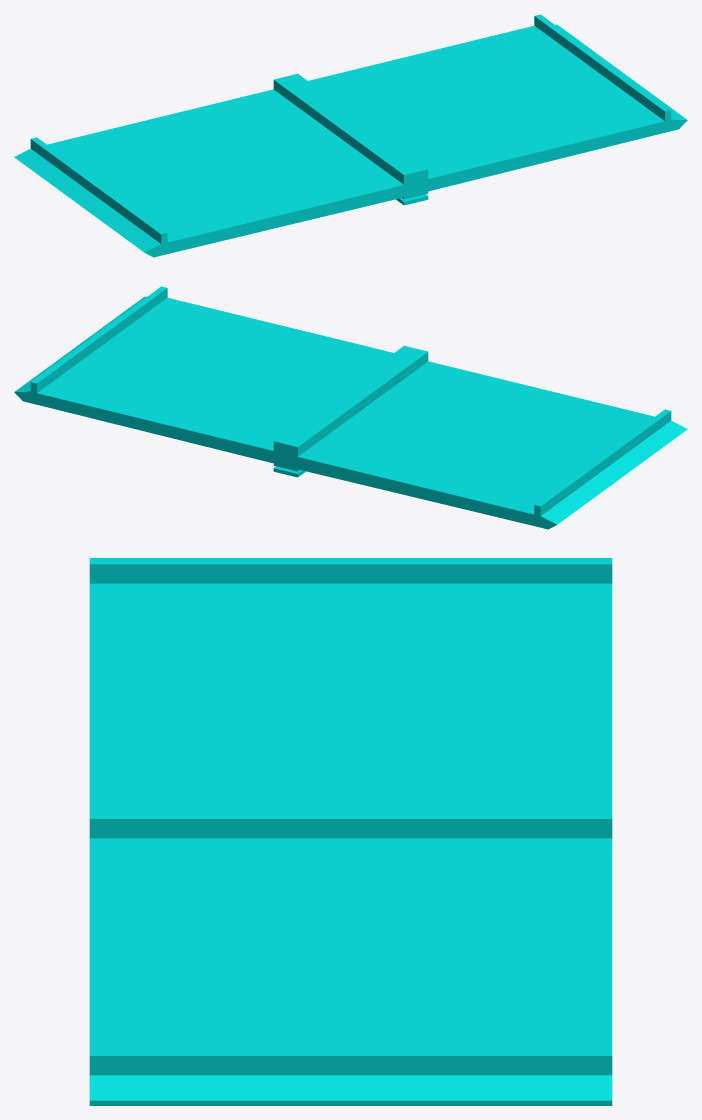
File: Mdl_Vagon_techo.fbx
3 renders of one model, top to bottom at view 1: azimuth 30°, elevation 25°; view 2: azimuth 150°, elevation 25°; view 3: azimuth 270°, elevation 25°, orthographic. The views are drawn at different scales.
Visible parts, largest first — view 1: Mdl_Vagon_techo; view 2: Mdl_Vagon_techo; view 3: Mdl_Vagon_techo.
Part boxes in pixels (x1,y1,x2,y2): Mdl_Vagon_techo: (14,14,687,257); Mdl_Vagon_techo: (14,286,687,529); Mdl_Vagon_techo: (89,558,612,1105).
Bounding box in the file's own units: 59.53 × 3.18 × 24.78.
